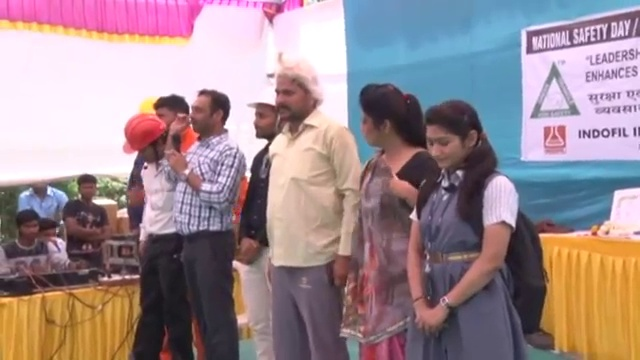helmet: (123, 115, 166, 155), (246, 90, 281, 111)
helmet_off: (420, 95, 491, 185), (354, 80, 421, 161), (268, 64, 326, 123), (187, 90, 230, 144), (154, 94, 189, 129), (13, 213, 41, 246), (71, 176, 95, 207), (40, 215, 62, 245)
helmet_on: (122, 114, 171, 168), (247, 89, 280, 147)
person: (404, 97, 548, 360), (265, 52, 365, 360), (351, 69, 440, 360), (170, 93, 252, 360), (122, 114, 192, 360), (235, 87, 280, 360), (0, 213, 86, 276), (63, 175, 110, 259), (17, 176, 67, 213)
